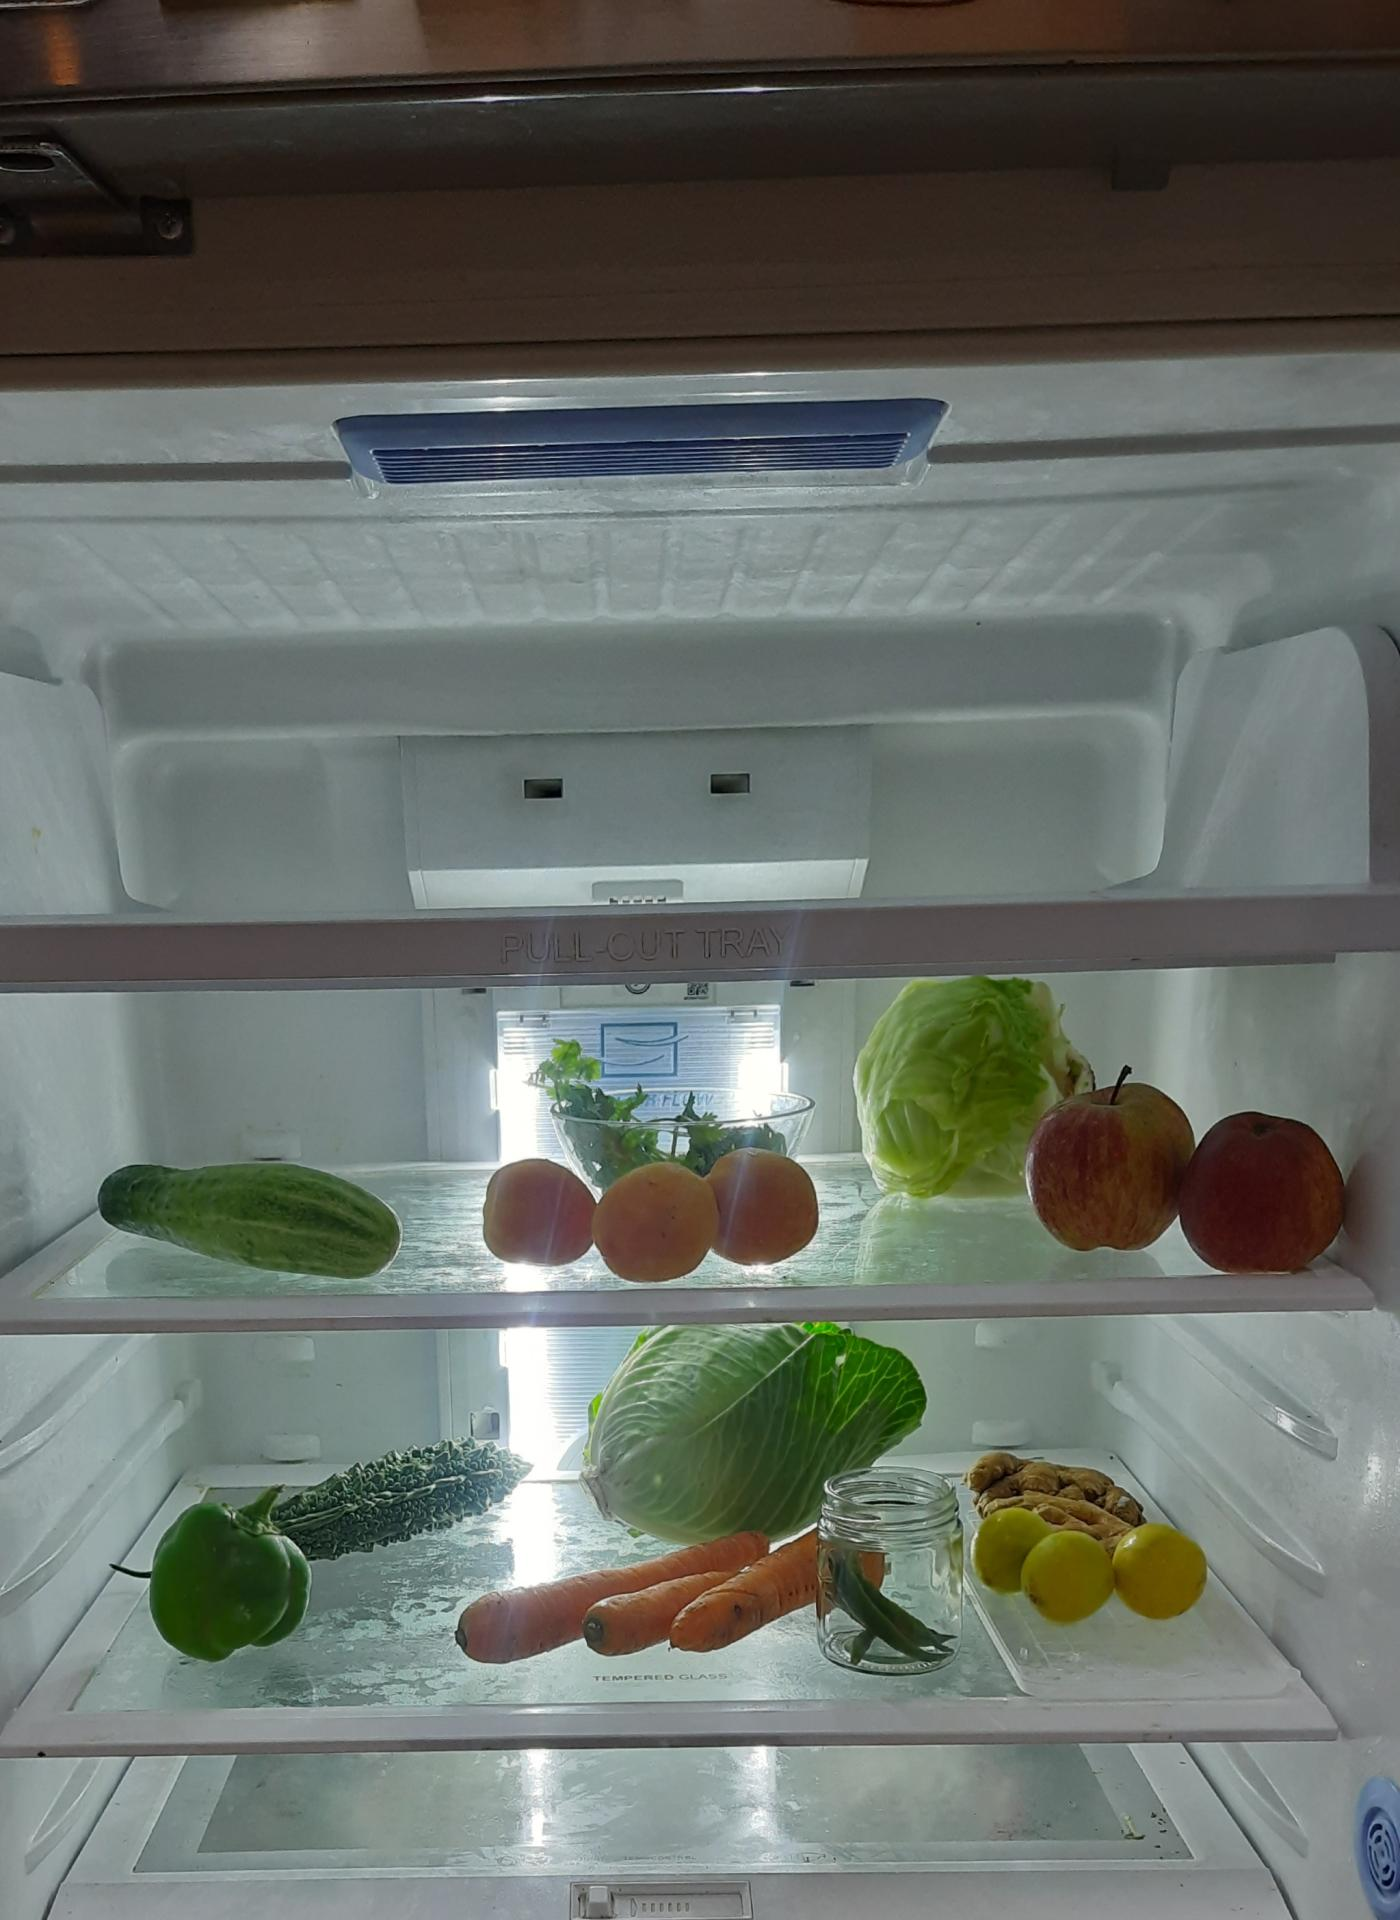bitter gourd: (245, 1430, 526, 1555)
cabbage: (583, 1327, 923, 1537)
capsicum: (148, 1506, 324, 1668)
carrots: (461, 1523, 838, 1664)
chillies: (1035, 1082, 1352, 1276), (824, 1543, 957, 1656)
coriander: (532, 1040, 801, 1151)
cucumber: (89, 1149, 413, 1272)
ginger: (966, 1450, 1147, 1531)
lemon: (969, 1503, 1208, 1631)
lettuce: (850, 982, 1084, 1188)
tomato: (483, 1155, 816, 1286)
